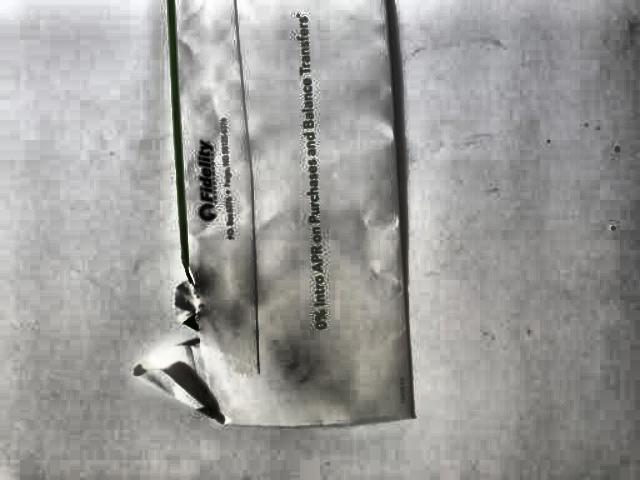Paper: (127, 0, 425, 430)
